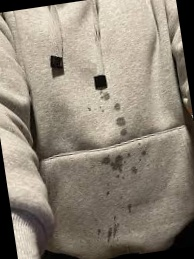oil: (93, 222, 126, 243), (102, 152, 127, 174), (99, 92, 118, 107), (117, 116, 130, 137), (86, 105, 98, 120), (113, 103, 124, 116), (127, 201, 134, 213), (131, 165, 140, 174), (142, 151, 149, 159), (107, 188, 114, 196), (133, 143, 141, 149)
